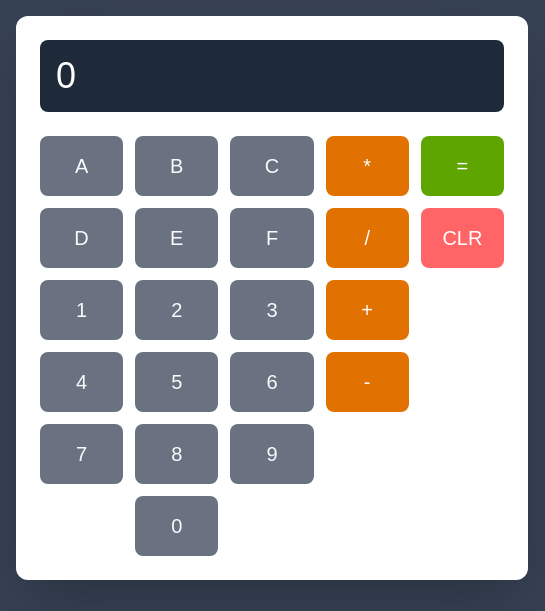
Test: Calculator Add Funtion › should add 1 with FF
Click the button with test id "1".
click(82, 310)  # box [40,280,123,340]
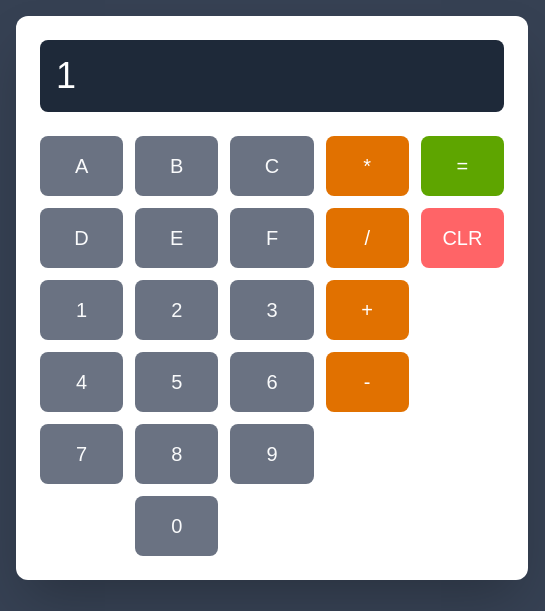
Click the button with test id "+".
click(368, 310)  # box [326,280,409,340]
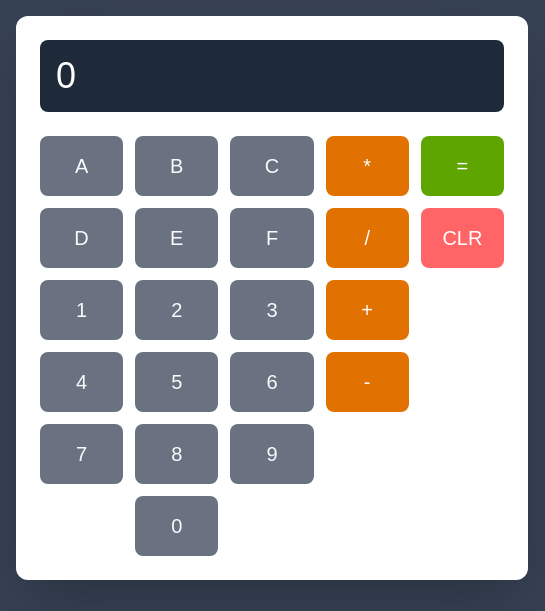
Click the button with test id "F".
click(272, 238)  # box [230,208,313,268]
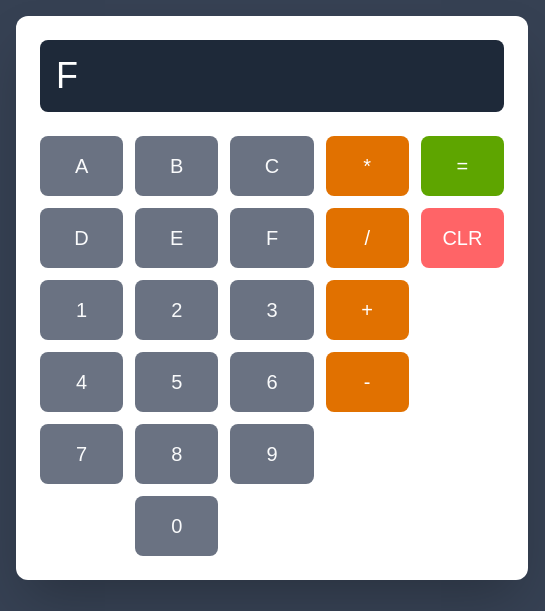
Click the button with test id "F".
click(272, 238)  # box [230,208,313,268]
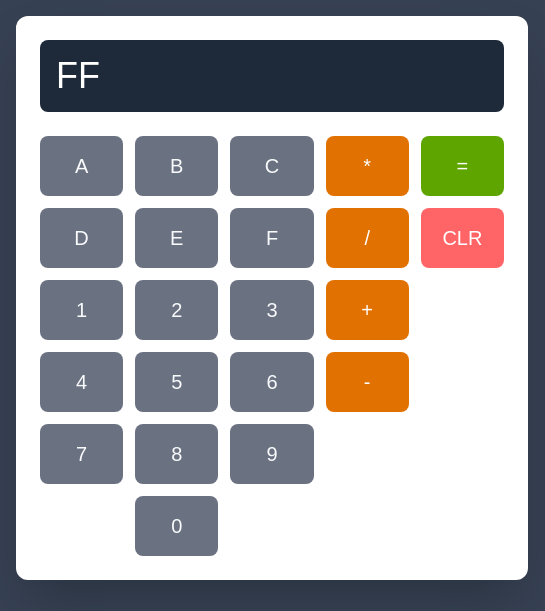
Click the button with test id "equals-btn".
click(463, 166)  # box [421,136,504,196]
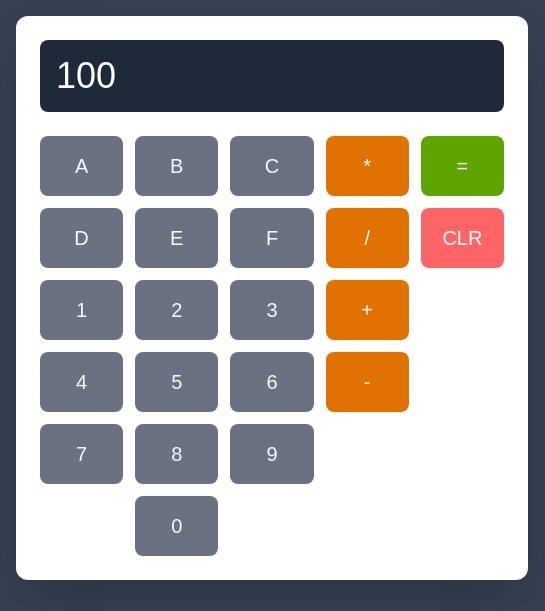
Now the text with test id "display-value" reads "100", box [56,55,116,96]
